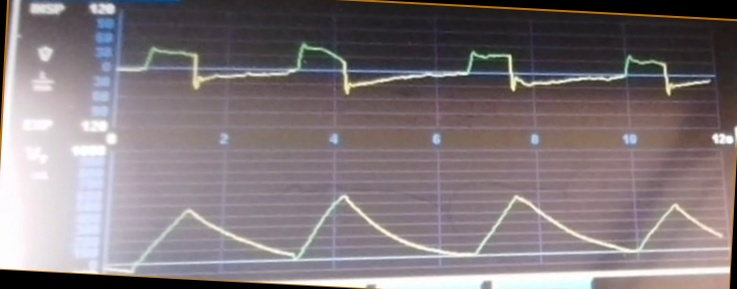Premature_cycling Flow: (122, 34, 713, 121)
Premature_cycling Volume: (112, 184, 722, 265)
